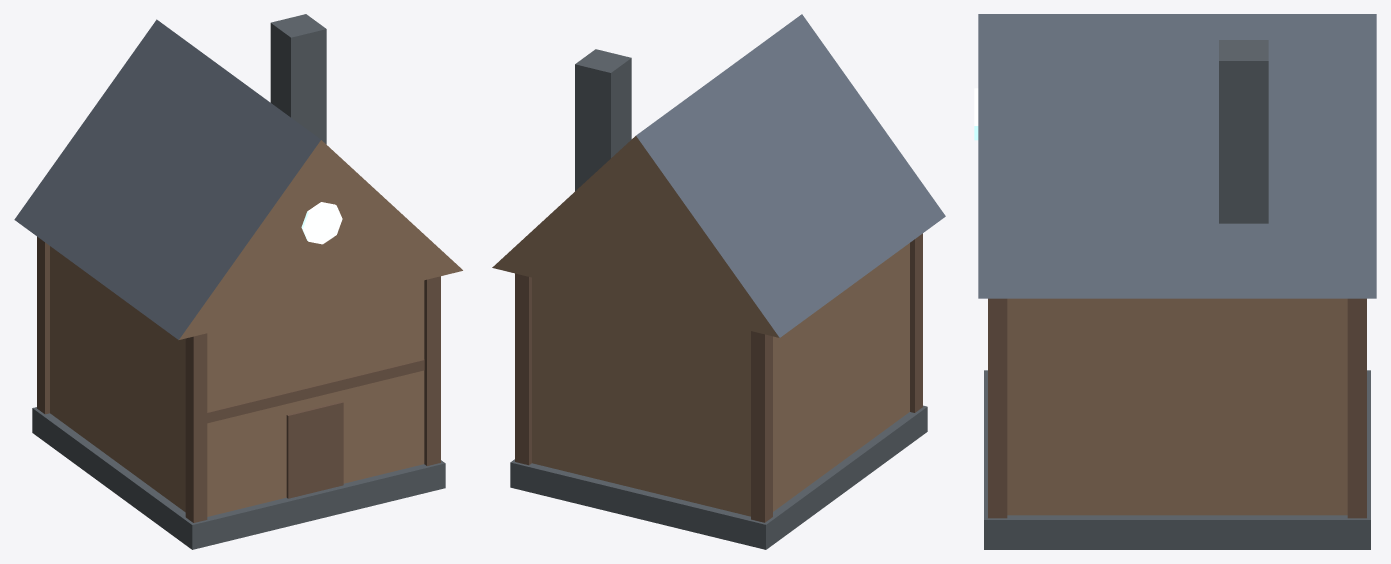
File: haunted_witchcottage.glb
The picture shows the model from 3 angles, left to right: view 1: azimuth 30°, elevation 25°; view 2: azimuth 150°, elevation 25°; view 3: azimuth 270°, elevation 25°; orthographic projection. The views are drawn at different scales.
Parts seen in each view (by area): view 1: Haunted_WitchCottage; view 2: Haunted_WitchCottage; view 3: Haunted_WitchCottage.
Part boxes in pixels (box(x1,y1,x2,y2)): Haunted_WitchCottage: box(14, 14, 462, 549); Haunted_WitchCottage: box(492, 14, 945, 549); Haunted_WitchCottage: box(974, 14, 1376, 549).
Size of the model in its own units: 7.2 by 9.5 by 7.27.
